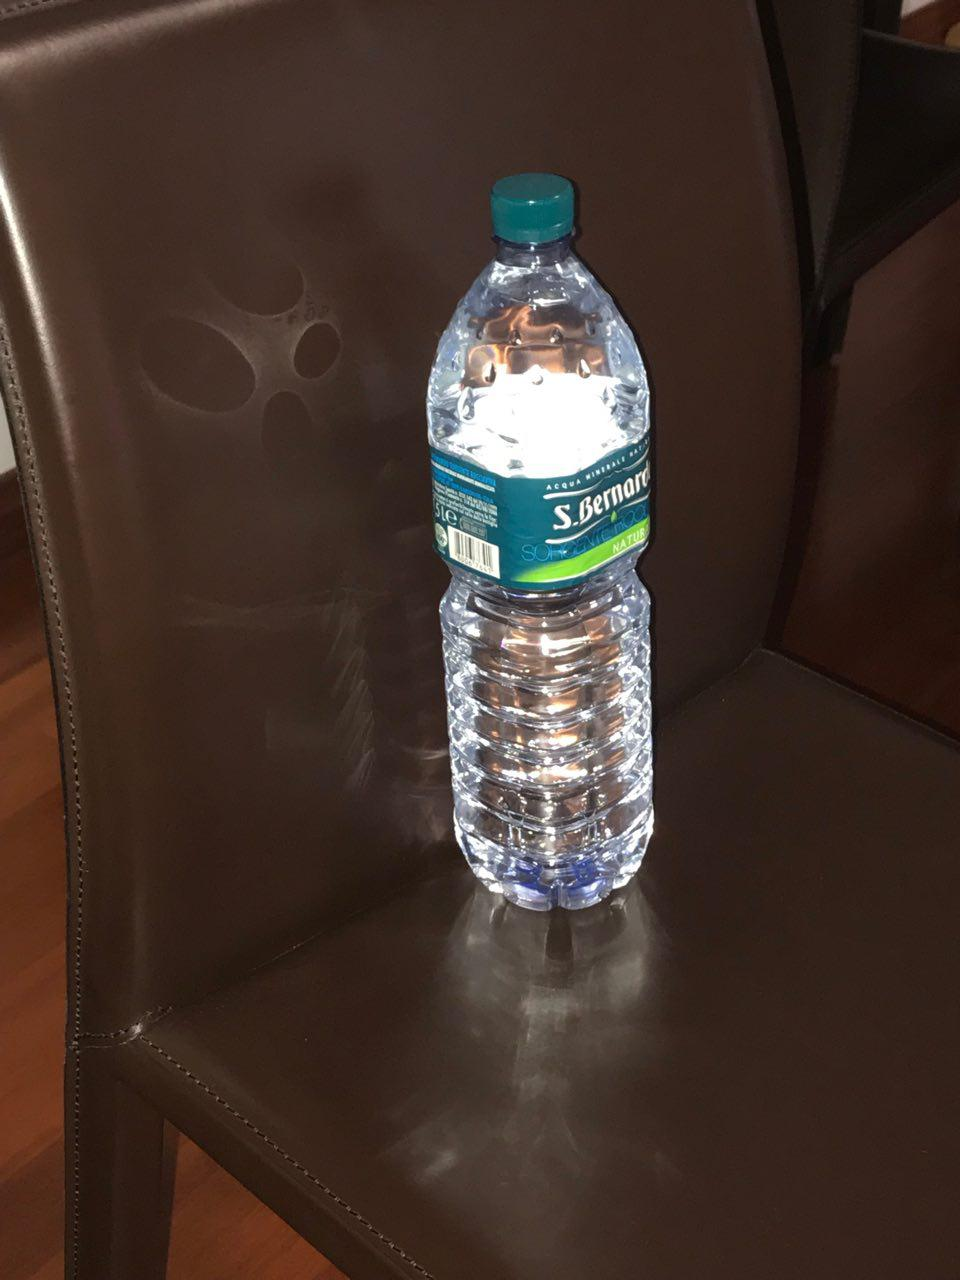san_bernardo: (423, 170, 657, 911)
